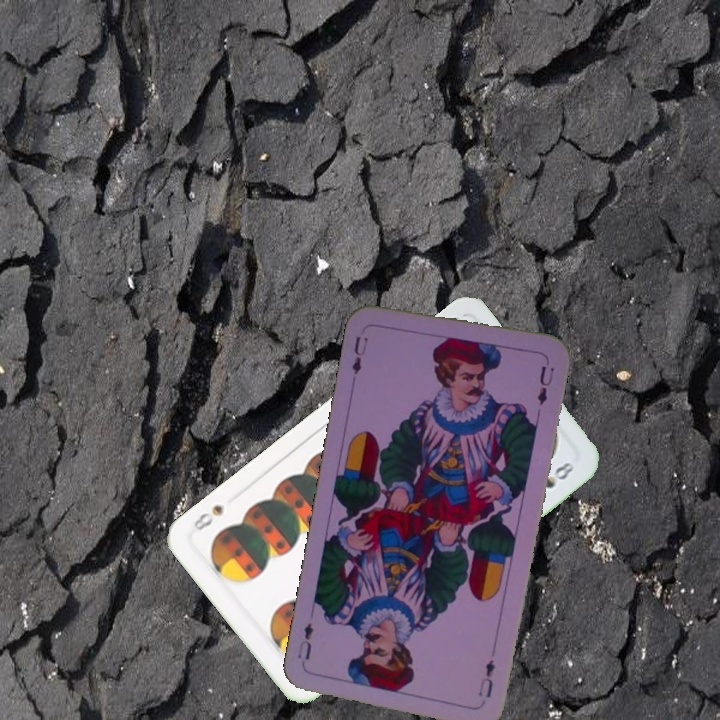EU: (474, 655, 498, 701), (348, 332, 371, 378)
